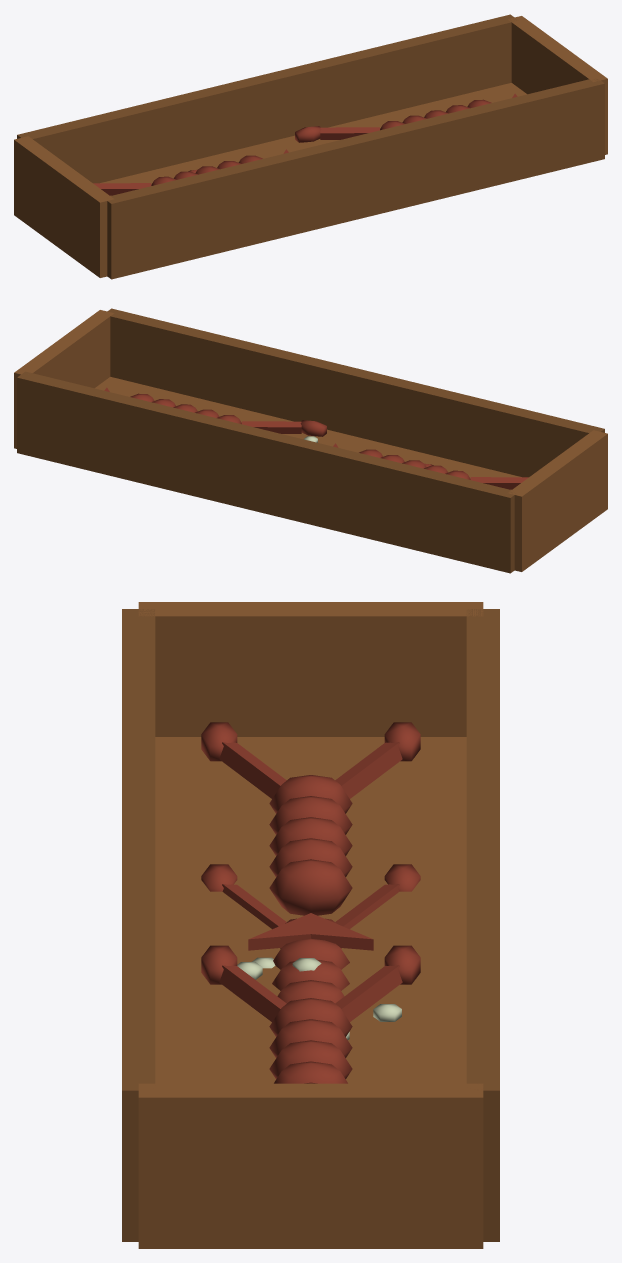
File: Sea_Crayfish.fbx
3 renders of one model, top to bottom at view 1: azimuth 30°, elevation 25°; view 2: azimuth 150°, elevation 25°; view 3: azimuth 270°, elevation 25°, orthographic. The views are drawn at different scales.
Parts seen in each view (by area): view 1: Sea_Crayfish__Stack; view 2: Sea_Crayfish__Stack; view 3: Sea_Crayfish__Stack, Sea_Crayfish, Sea_Crayfish__Rotten.
Part boxes in pixels (x1,y1,x2,y2): Sea_Crayfish__Stack: (14,14,607,279); Sea_Crayfish__Stack: (14,308,607,573); Sea_Crayfish__Stack: (122,602,499,1248); Sea_Crayfish: (201,864,420,1003); Sea_Crayfish__Rotten: (237,957,401,1039).
Size of the model in its own units: 0.2815 by 0.04 by 0.0907.
